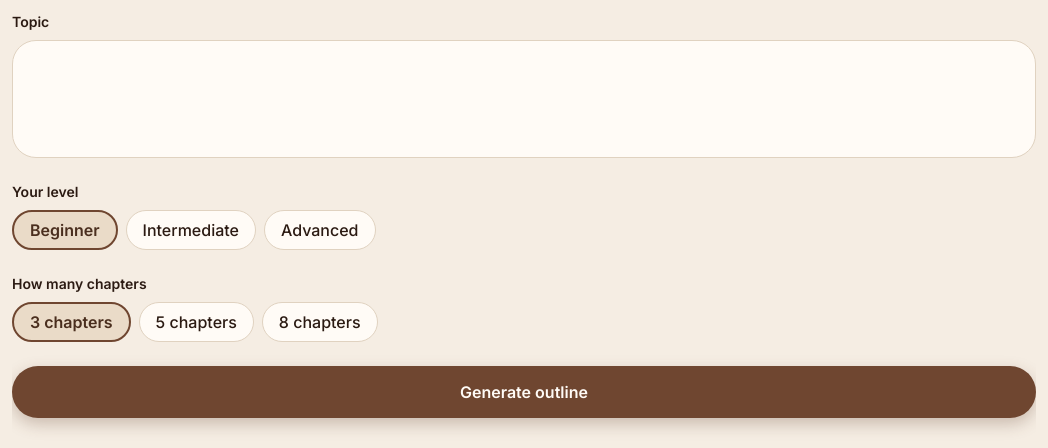
Test case: NewModuleForm › clicking a level chip selects it and deselects the others
This screenshot has width=1048, height=448.
Click the button "Advanced" at (320, 230), box x1=264 y1=210 x2=376 y2=250
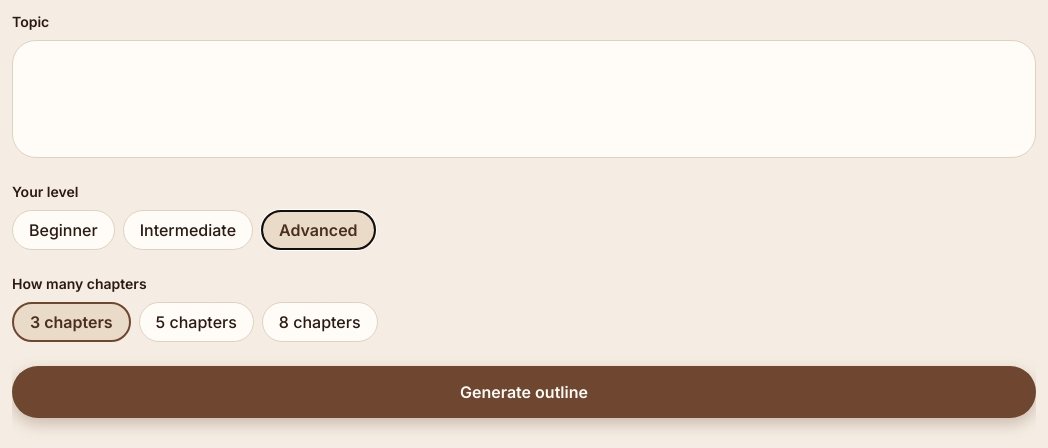
Check: the button "Advanced" is pressed, box x1=261 y1=210 x2=376 y2=250
Check: the button "Beginner" is not pressed, box x1=12 y1=210 x2=115 y2=250
